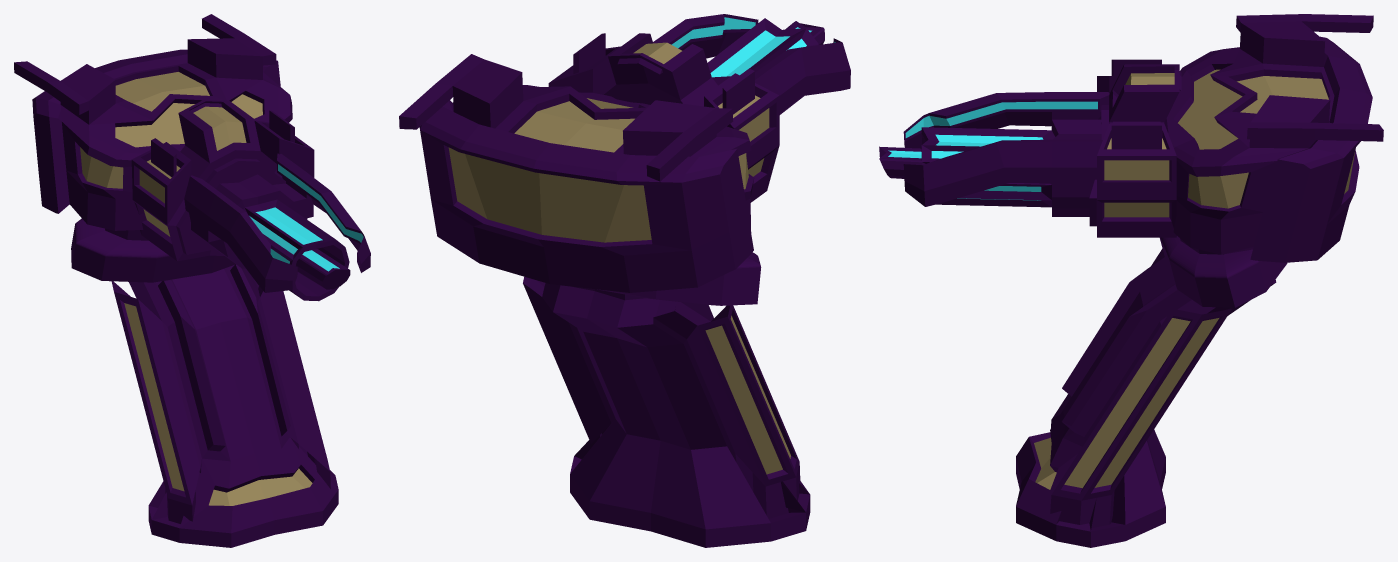
Rendered from LaserTower.fbx.
3 views of the same model, side by side, from view 1: azimuth 30°, elevation 25°; view 2: azimuth 150°, elevation 25°; view 3: azimuth 270°, elevation 25° (orthographic). The views are drawn at different scales.
Visible parts, largest first — view 1: BaseTower, Base Cannon, Laser, BaseLaser; view 2: Base Cannon, BaseTower, BaseLaser, Laser; view 3: Base Cannon, BaseTower, Laser, BaseLaser.
Boxes of the visible parts, <box> form: BaseTower: <box>111,264,338,547</box>; Base Cannon: <box>14,14,292,282</box>; Laser: <box>184,153,370,301</box>; BaseLaser: <box>131,99,314,261</box>; Base Cannon: <box>399,54,761,305</box>; BaseTower: <box>523,276,810,547</box>; BaseLaser: <box>548,33,779,202</box>; Laser: <box>653,14,850,114</box>; Base Cannon: <box>1160,14,1383,307</box>; BaseTower: <box>1016,248,1276,547</box>; Laser: <box>879,92,1109,216</box>; BaseLaser: <box>1089,59,1181,237</box>.
Size of the model in its own units: 466 by 729 by 771.
